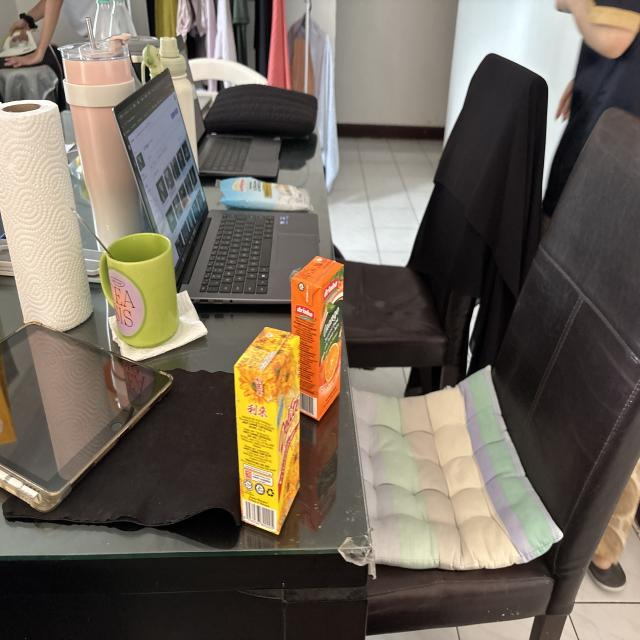drink_carton: (229, 318, 310, 543), (287, 248, 347, 431)
